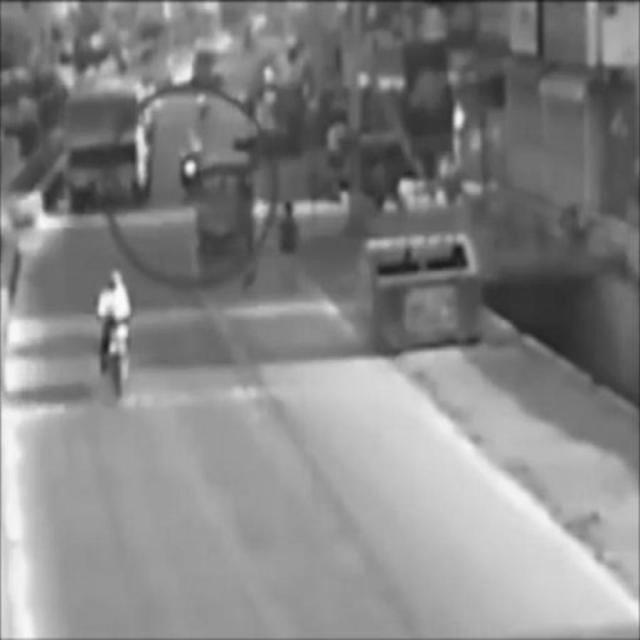person: (279, 200, 297, 291)
vehicle: (68, 95, 145, 208), (97, 268, 135, 399), (199, 168, 257, 251), (176, 126, 202, 200)
